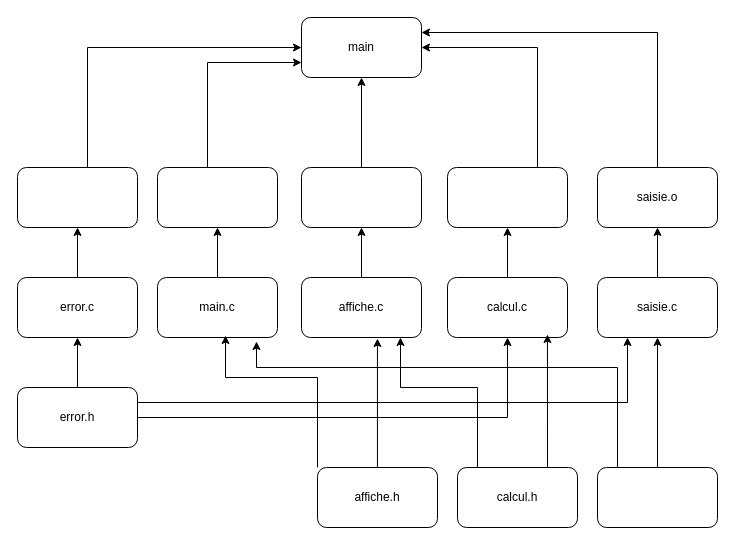
The diagram is 735 pixels wide and 545 high, and some of its shapes have lost their labels. The shapes that lost their labels are listed below. From the top down, each one's centre as x and y in pixels, then its label:
At (77,197): "error.o".
At (217,197): "main.o".
At (361,197): "affiche .o".
At (507,197): "calcul.o".
At (657,497): "saisie .h".
